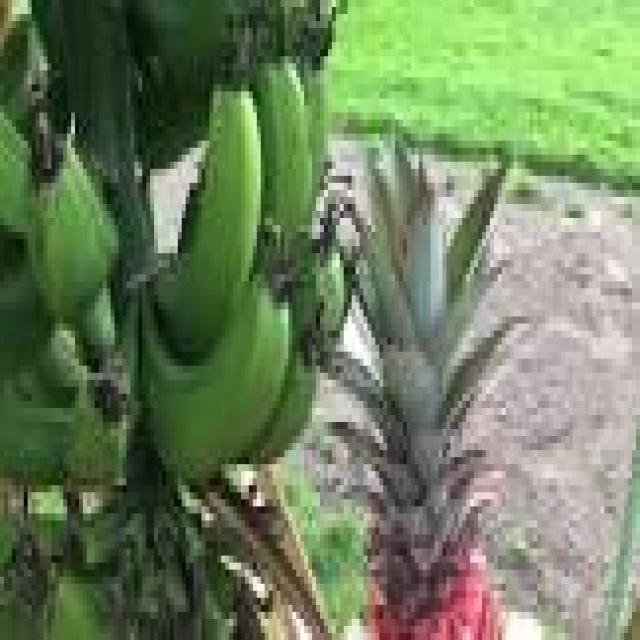banana: (143, 275, 292, 485), (155, 92, 260, 358), (28, 148, 118, 323), (0, 373, 126, 492), (253, 57, 312, 232), (127, 0, 237, 91), (0, 380, 75, 492), (249, 352, 316, 464), (135, 71, 209, 168), (0, 254, 55, 379), (12, 331, 86, 407), (0, 15, 39, 133), (48, 570, 114, 639), (0, 113, 31, 239), (301, 64, 331, 189), (76, 289, 118, 365), (317, 247, 347, 337), (0, 0, 11, 49)
